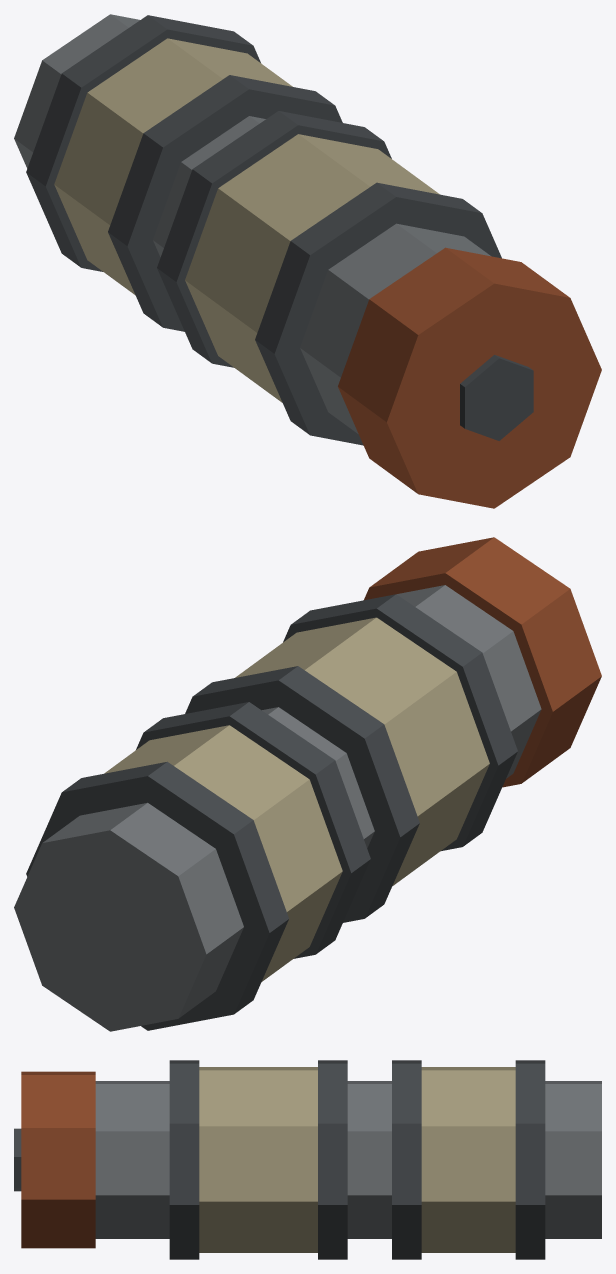
The model's file is mod_suppressor.glb.
3 renders of one model, top to bottom at view 1: azimuth 30°, elevation 25°; view 2: azimuth 150°, elevation 25°; view 3: azimuth 270°, elevation 25°, orthographic. The views are drawn at different scales.
Visible parts, largest first — view 1: suppressor; view 2: suppressor; view 3: suppressor.
Part boxes in pixels (left/top/right/bottom): suppressor: left=14, top=14, right=601, bottom=508; suppressor: left=14, top=537, right=601, bottom=1031; suppressor: left=14, top=1060, right=601, bottom=1259.
Bounding box in the file's own units: 0.086 × 0.086 × 0.238.
